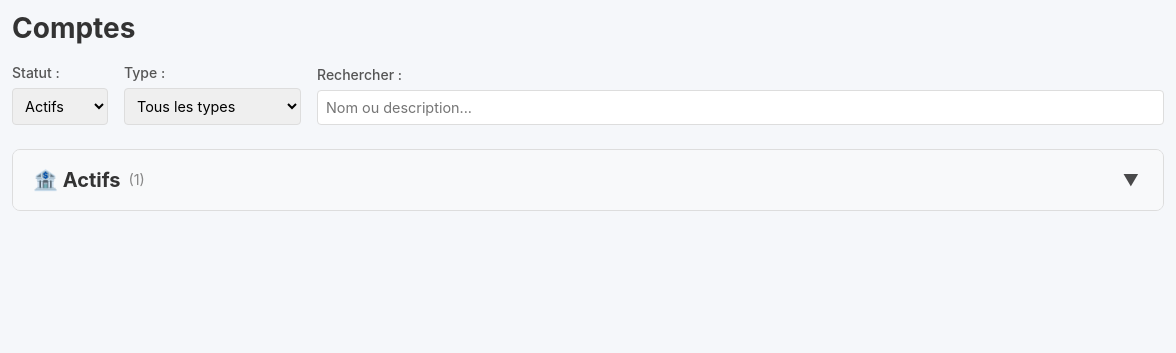
Test: AccountList - Affichage des détails › devrait afficher la devise et la date d'ouverture
Click the element with class "type-header" at [588, 180], box [13,150,1163,210]
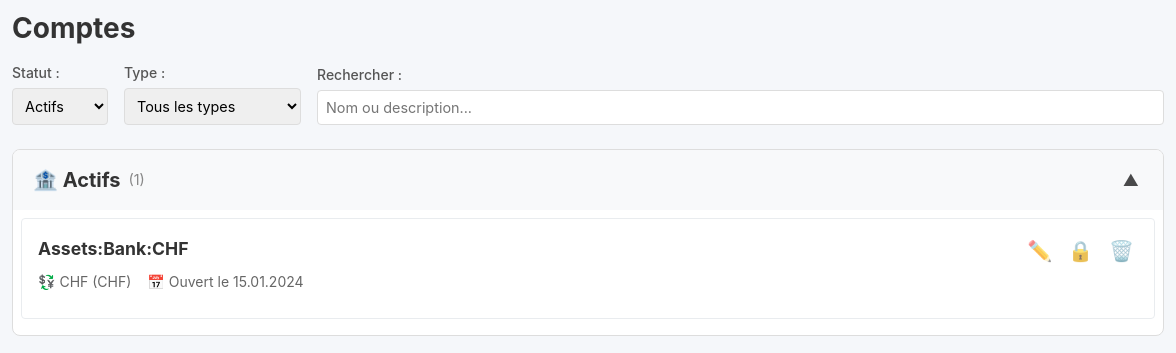
Now the element with class "account-details" is shown, box [38,273,304,290]
Now the element with class "account-details" shows "CHF", box [38,273,131,290]
Now the element with class "account-details" shows "Ouvert le", box [147,273,304,290]
